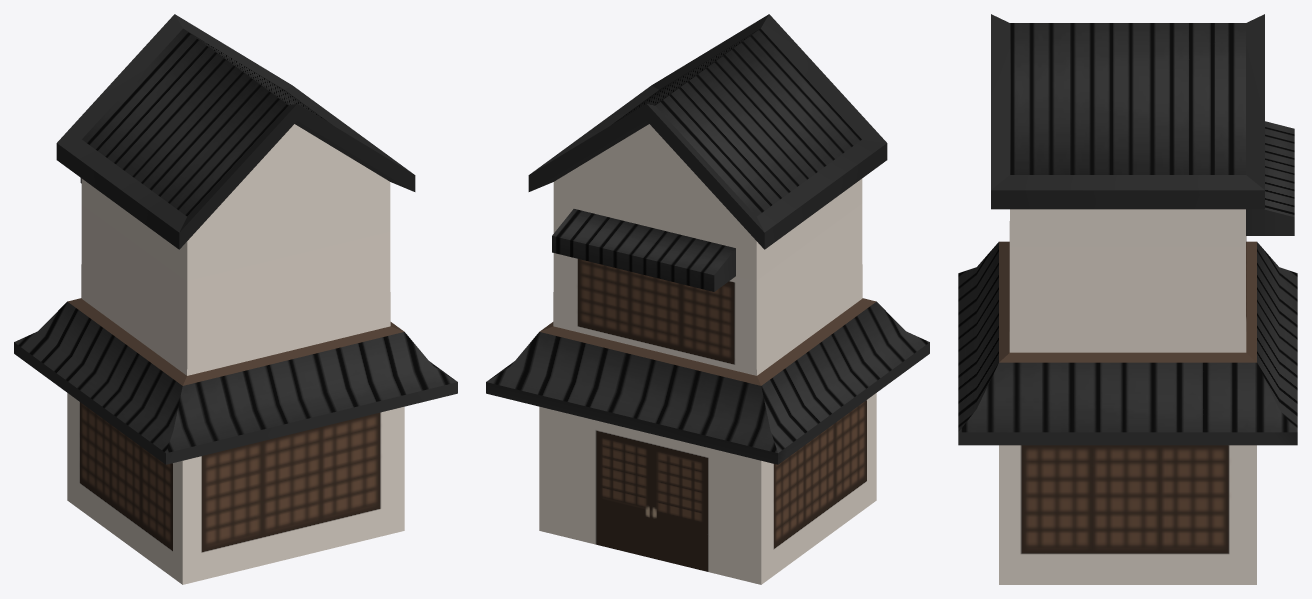
Rendered from building9.fbx.
The picture shows the model from 3 angles, left to right: view 1: azimuth 30°, elevation 25°; view 2: azimuth 150°, elevation 25°; view 3: azimuth 270°, elevation 25°; orthographic projection. The views are drawn at different scales.
Parts seen in each view (by area): view 1: pCube1; view 2: pCube1; view 3: pCube1.
Boxes of the visible parts, x1=… form: pCube1: x1=14, y1=14, x2=457, y2=584; pCube1: x1=486, y1=14, x2=929, y2=584; pCube1: x1=958, y1=14, x2=1297, y2=584.
Size of the model in its own units: 840 by 1255 by 756.
